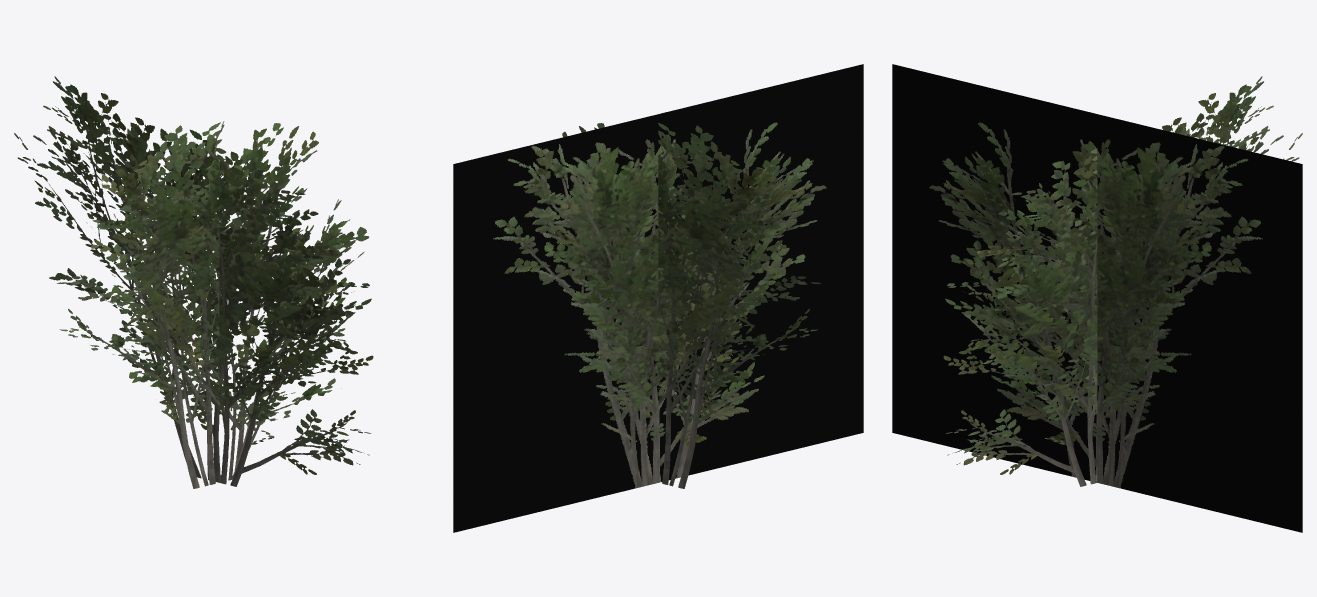
The model's file is hloh_1_daleko.glb.
The picture shows the model from 3 angles, left to right: view 1: azimuth 30°, elevation 25°; view 2: azimuth 150°, elevation 25°; view 3: azimuth 270°, elevation 25°; orthographic projection.
Parts seen in each view (by area): view 1: hloh_1_daleko; view 2: hloh_1_daleko; view 3: hloh_1_daleko.
Boxes of the visible parts, left/top/right/bottom form: hloh_1_daleko: left=14, top=76, right=373, bottom=488; hloh_1_daleko: left=453, top=64, right=863, bottom=532; hloh_1_daleko: left=892, top=64, right=1302, bottom=532.
Size of the model in its own units: 3.54 by 3.04 by 3.07.
Materials: 3 (3 with a texture image).
